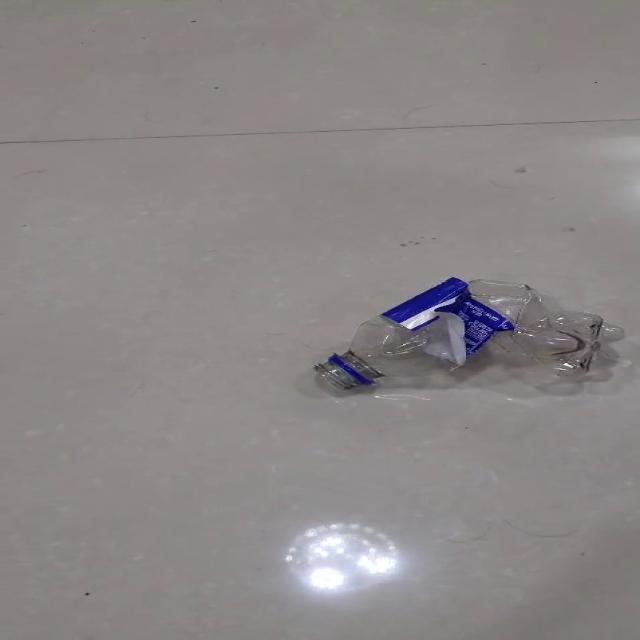plastic: (312, 276, 623, 392)
